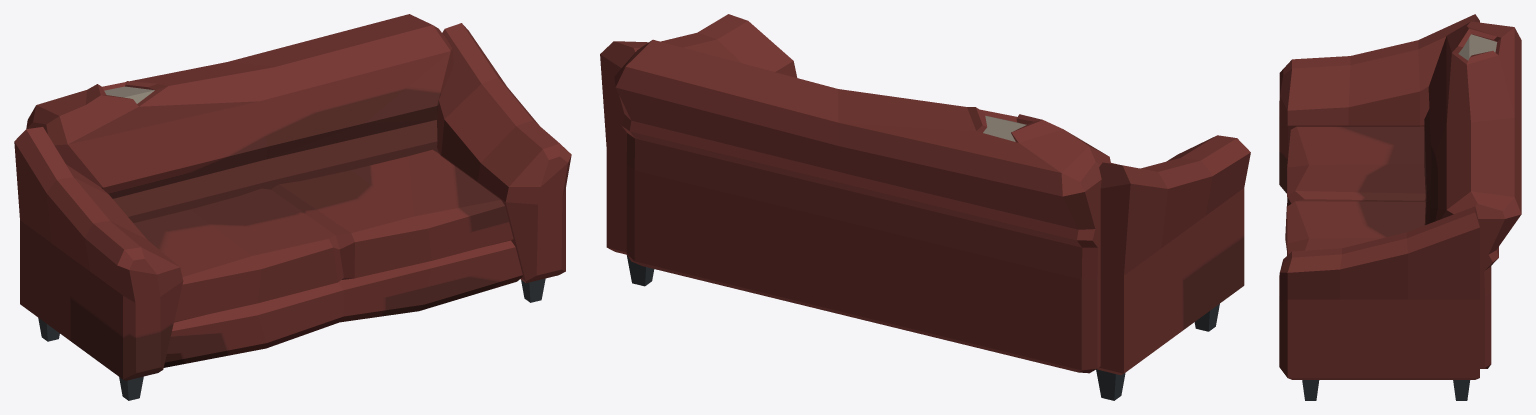
Rendered from SM_Prop_Couch_01.glb.
The picture shows the model from 3 angles, left to right: view 1: azimuth 30°, elevation 25°; view 2: azimuth 150°, elevation 25°; view 3: azimuth 270°, elevation 25°; orthographic projection. The views are drawn at different scales.
Parts seen in each view (by area): view 1: SM_Prop_Couch_01; view 2: SM_Prop_Couch_01; view 3: SM_Prop_Couch_01.
Boxes of the visible parts, x1=… form: SM_Prop_Couch_01: x1=14, y1=14, x2=571, y2=400; SM_Prop_Couch_01: x1=600, y1=14, x2=1250, y2=400; SM_Prop_Couch_01: x1=1279, y1=14, x2=1521, y2=400.
Bounding box in the file's own units: 2.24 × 1.07 × 1.11.
Materials: 1 (1 with a texture image).
